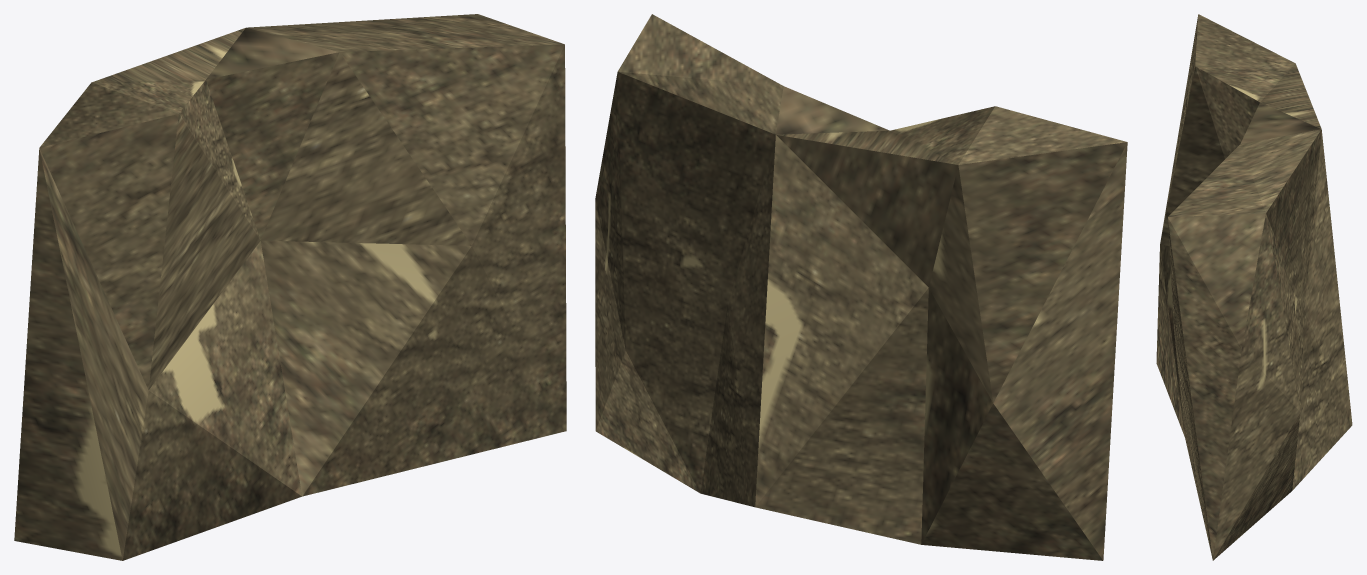
The model's file is CaveWalls1_B_COL.obj.
3 renders of one model, left to right at view 1: azimuth 30°, elevation 25°; view 2: azimuth 150°, elevation 25°; view 3: azimuth 270°, elevation 25°, orthographic. The views are drawn at different scales.
Visible parts, largest first — view 1: CaveWalls1_B.002; view 2: CaveWalls1_B.002; view 3: CaveWalls1_B.002.
Part boxes in pixels (<box>): CaveWalls1_B.002: <box>14,14,566,560</box>; CaveWalls1_B.002: <box>595,14,1127,560</box>; CaveWalls1_B.002: <box>1156,14,1352,560</box>.
Bounding box in the file's own units: 43.44 × 32.7 × 17.15.
Materials: 1 (1 with a texture image).
